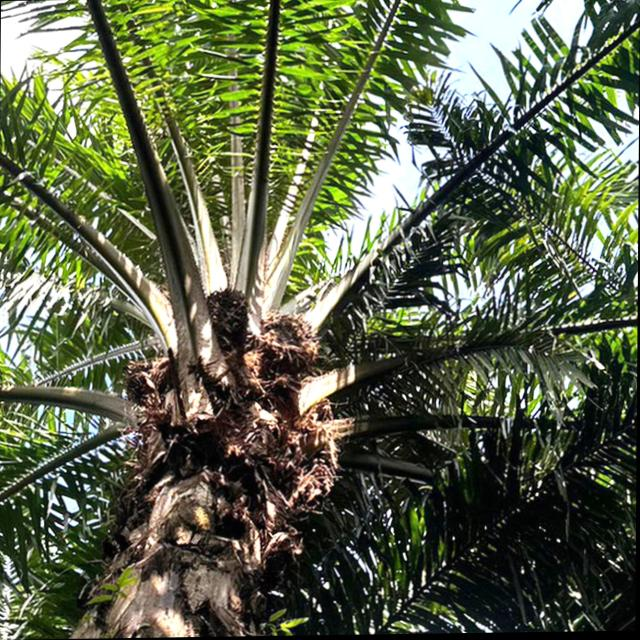unripe: (199, 280, 257, 357)
